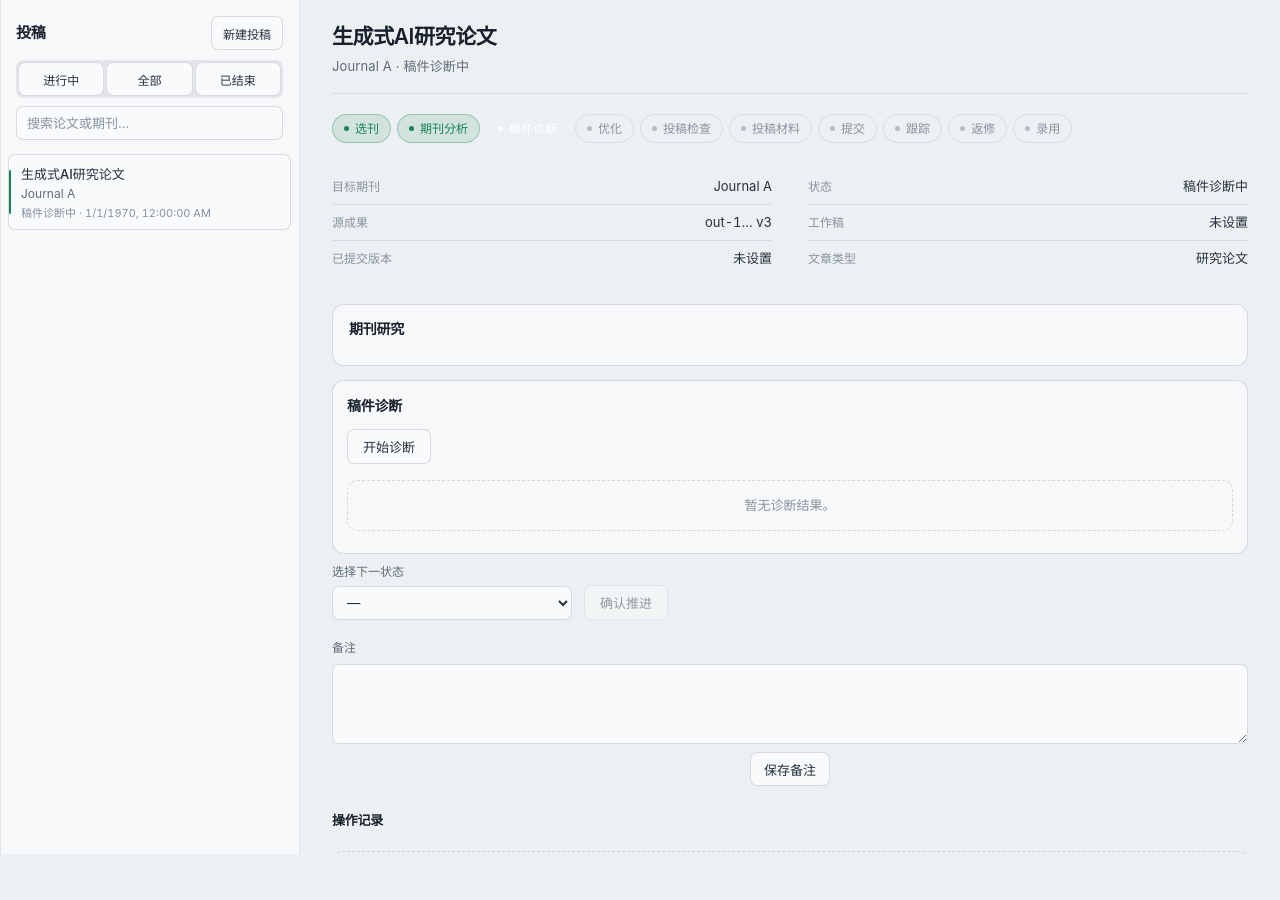
Test: SubmissionsPage 期刊研究（P1） › 诊断后按三级严重度分组渲染差距清单
Click the button "开始诊断" at (389, 447), box x1=347 y1=429 x2=431 y2=464
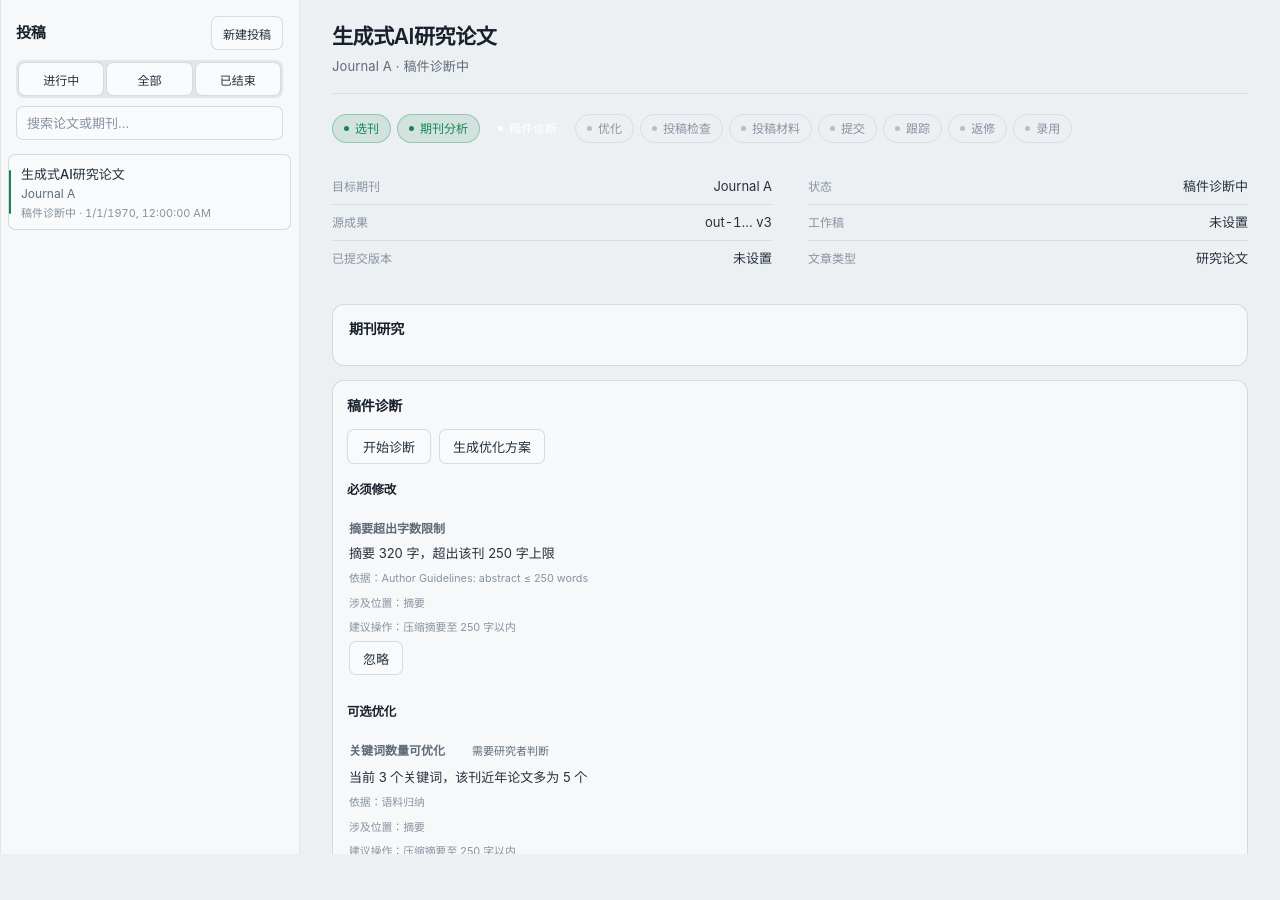
Check: the heading "必须修改" is shown, box x1=347 y1=482 x2=396 y2=497
Check: the heading "可选优化" is shown, box x1=347 y1=704 x2=396 y2=719
Check: the text "摘要超出字数限制" is shown, box x1=349 y1=519 x2=445 y2=539
